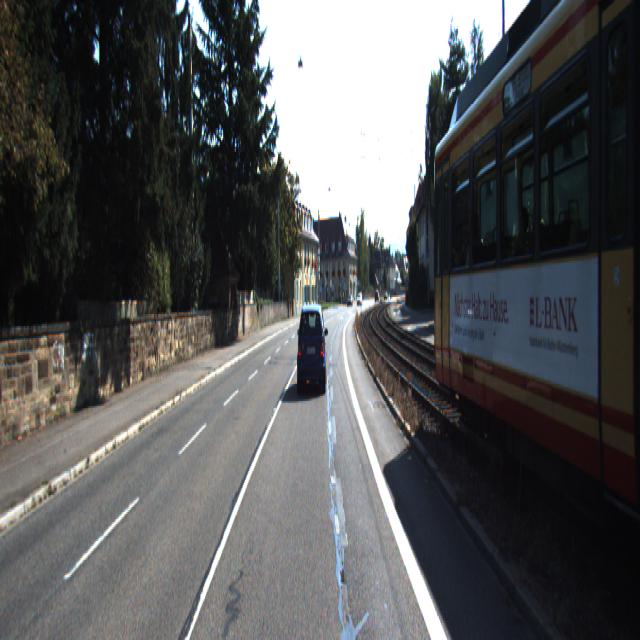Car: (433, 0, 639, 625), (298, 303, 328, 398)
